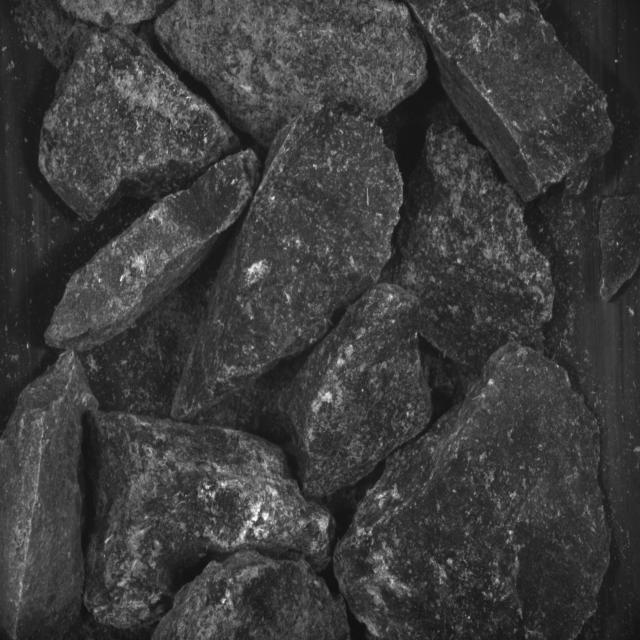Stones: (335, 344, 610, 640), (172, 105, 404, 420), (85, 412, 335, 631), (46, 150, 261, 352), (409, 1, 614, 202), (156, 1, 427, 148), (40, 28, 240, 221), (396, 126, 555, 368), (284, 284, 432, 498), (1, 352, 99, 640), (154, 552, 351, 640), (600, 194, 640, 302), (61, 1, 166, 29)
